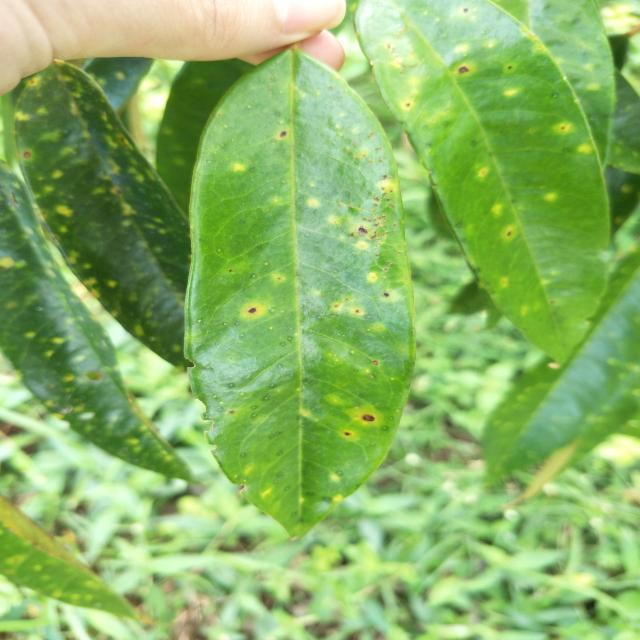Leaf Spot: (324, 404, 389, 443), (238, 294, 281, 326), (260, 113, 294, 145)
